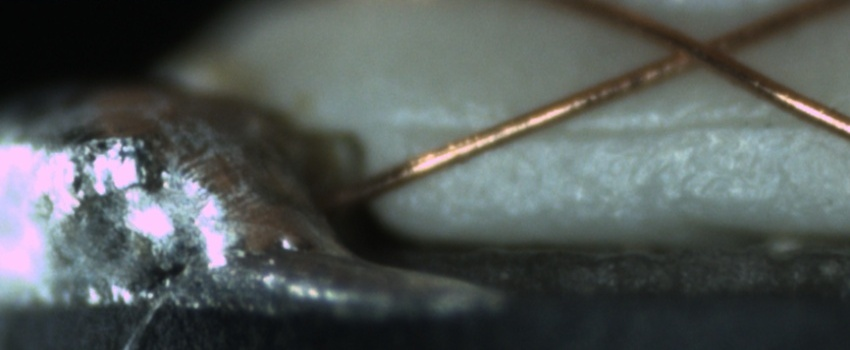CL: (651, 17, 750, 78)
DL: (393, 96, 850, 157)
